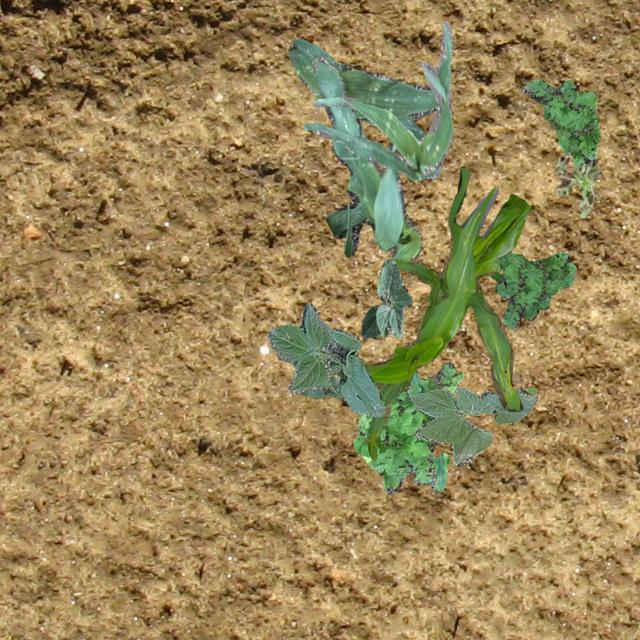crop: (358, 166, 530, 460), (303, 19, 452, 180), (310, 56, 422, 260), (288, 38, 437, 140), (266, 303, 384, 417), (408, 386, 536, 466), (360, 258, 410, 338), (298, 374, 342, 398)
weed: (352, 362, 462, 492), (520, 77, 598, 166), (494, 250, 576, 330), (488, 252, 574, 308), (554, 152, 600, 218)
